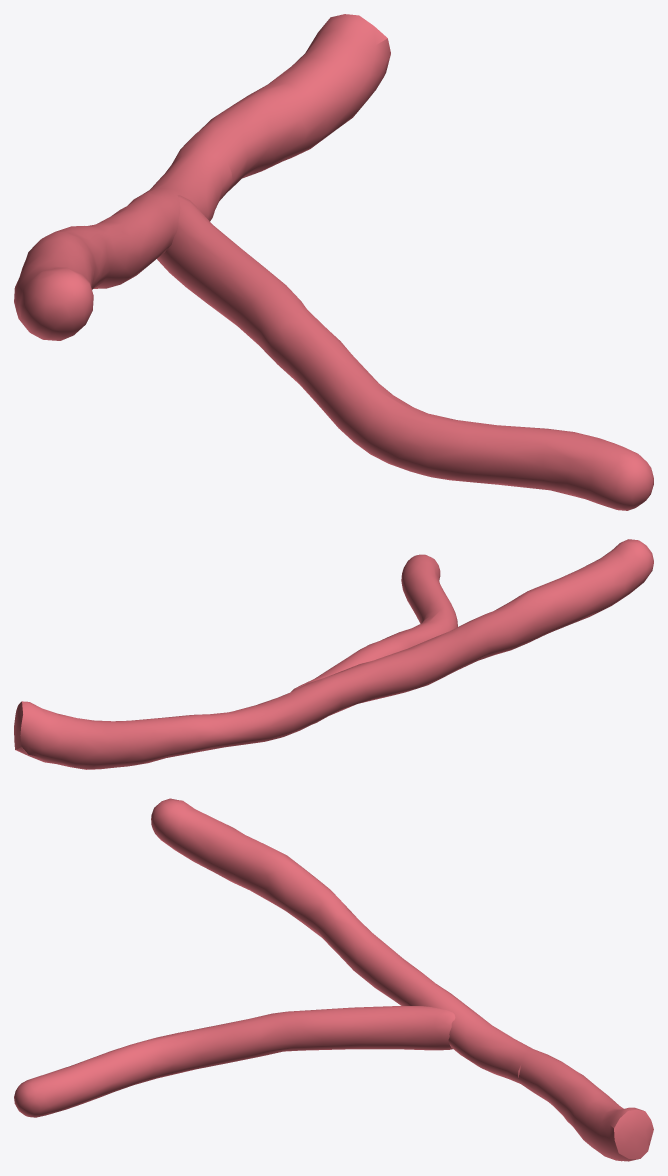
The model's file is fma52210_mm3623m.glb.
3 views of the same model, one above another, from view 1: azimuth 30°, elevation 25°; view 2: azimuth 150°, elevation 25°; view 3: azimuth 270°, elevation 25° (orthographic). The views are drawn at different scales.
Parts seen in each view (by area): view 1: FMA52210_MM3623M; view 2: FMA52210_MM3623M; view 3: FMA52210_MM3623M.
Boxes of the visible parts, x1,y1,x2,y2 form: FMA52210_MM3623M: (14,14,653,510); FMA52210_MM3623M: (14,539,653,769); FMA52210_MM3623M: (14,798,653,1161).
Bounding box in the file's own units: 0.0335 × 0.0121 × 0.041.
